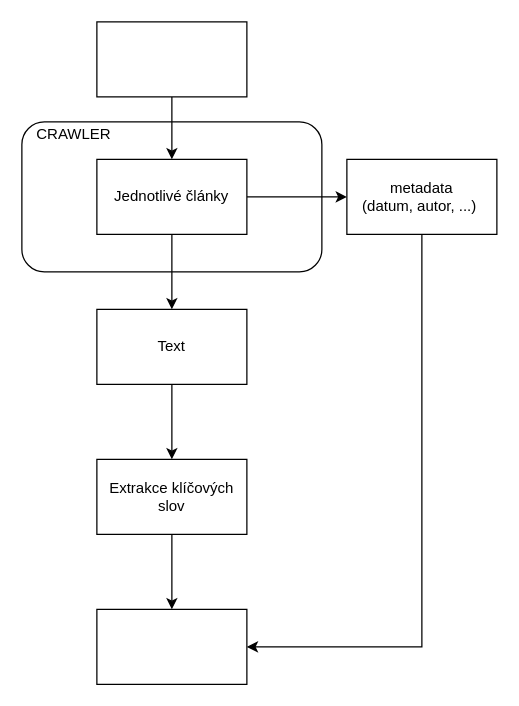
Image size: 519x706. Some labels were removed from this diagram. The shapes that lost their labels are listed below. From the top down, each one's centre as x and y in pixels, then its label:
At point 171,59: "Dezinformační web (propagandistický)".
At point 171,646: "Hledání podobné skupiny klíčových slov na jiných dezinfo webech".
